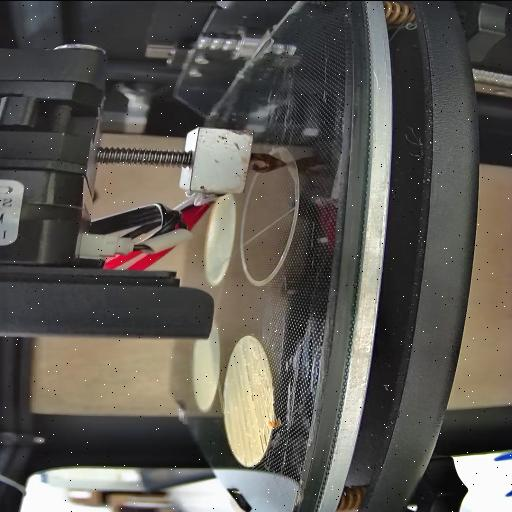under_extrusion: (242, 344, 256, 402), (258, 424, 272, 454), (265, 402, 274, 424), (242, 452, 250, 468)
